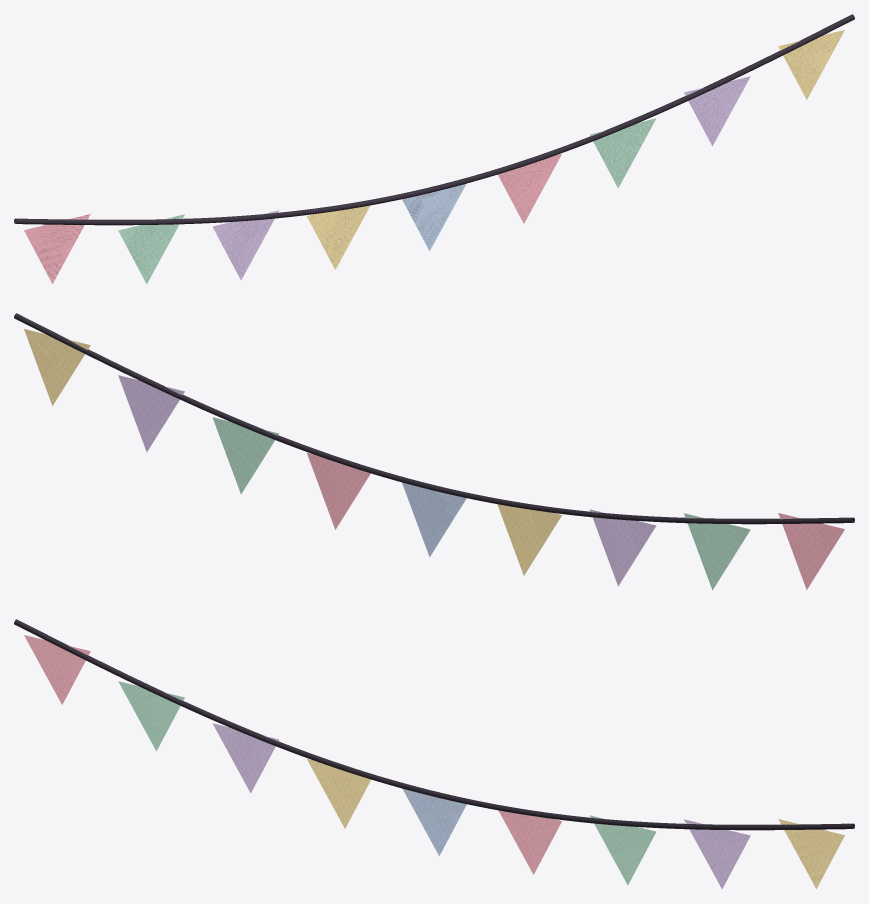
Rendered from Guirlande.glb.
The picture shows the model from 3 angles, top to bottom: view 1: azimuth 30°, elevation 25°; view 2: azimuth 150°, elevation 25°; view 3: azimuth 330°, elevation 25°; orthographic projection.
Visible parts, largest first — view 1: Fanions, Fil; view 2: Fanions, Fil; view 3: Fanions, Fil.
Part boxes in pixels (box(x1,y1,x2,y2)): Fanions: box(24, 30, 844, 284); Fil: box(14, 14, 854, 225); Fanions: box(24, 329, 844, 590); Fil: box(14, 313, 854, 524); Fanions: box(24, 635, 844, 889); Fil: box(14, 619, 854, 830).
Size of the model in its own units: 1 by 0.1579 by 0.013.
6 materials, 5 textured.
